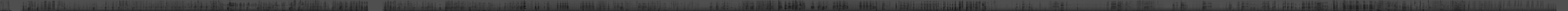Moan: (339, 0, 342, 11), (955, 0, 956, 11)
